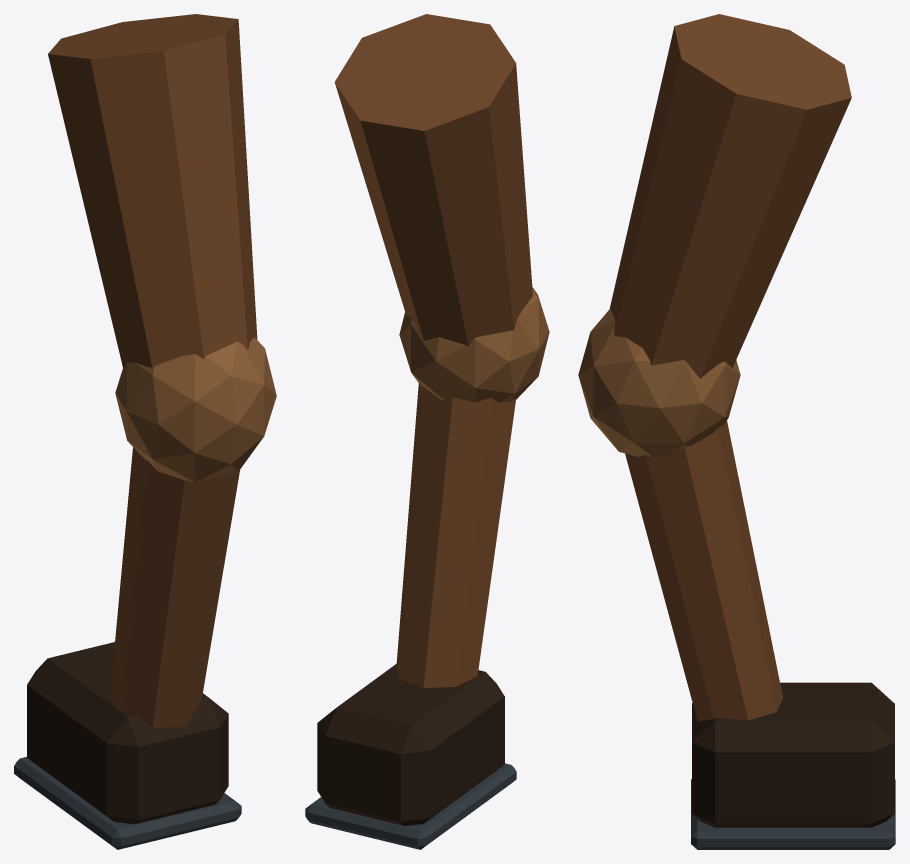
File: LegRearLeft.glb
3 views of the same model, side by side, from view 1: azimuth 30°, elevation 25°; view 2: azimuth 150°, elevation 25°; view 3: azimuth 270°, elevation 25° (orthographic). The views are drawn at different scales.
Parts seen in each view (by area): view 1: Sculpture; view 2: Sculpture; view 3: Sculpture.
Part boxes in pixels (x1,y1,x2,y2): Sculpture: (14,14,276,849); Sculpture: (305,14,549,849); Sculpture: (578,14,895,849).
Bounding box in the file's own units: 0.2146 × 1 × 0.3675.
